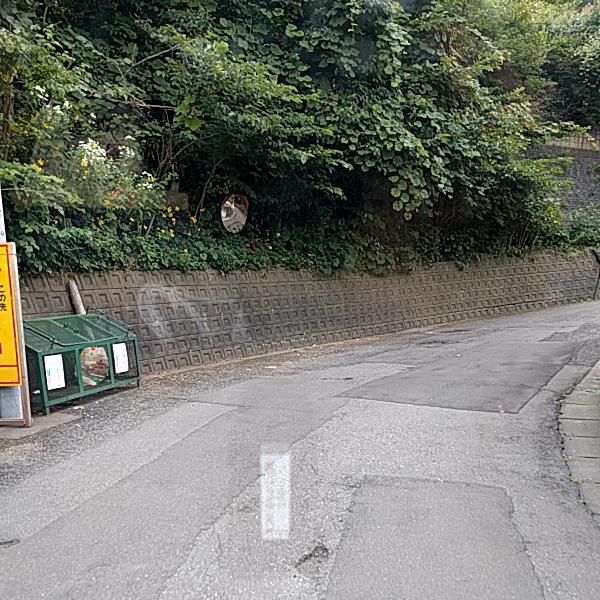Sambungan: (0, 408, 314, 600), (329, 472, 549, 600), (345, 339, 576, 412)
